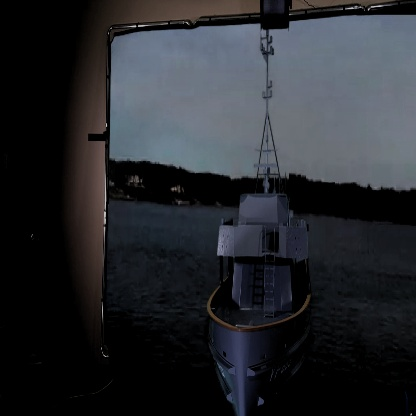YP689: (206, 31, 314, 416)
